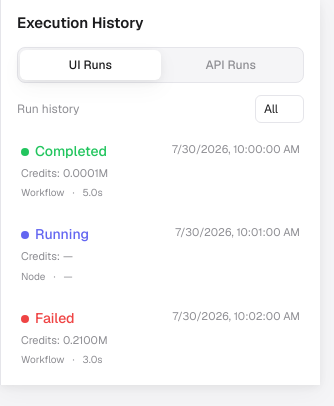
Scenario: HistorySidebar › API Runs tab shows empty state
The image size is (334, 406).
Expected: the list with test id "history-list" is shown, [9,130,312,377]
Click the button with test id "history-filter-api" at (231, 64), box [160,50,301,80]
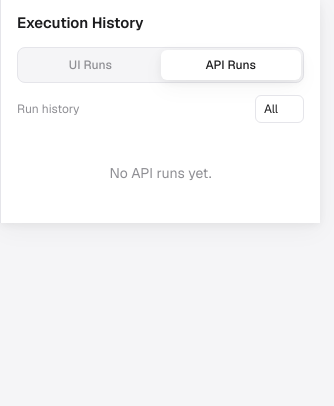
Expected: the text with test id "history-empty" reads "No API runs yet.", [110,164,212,182]
Expected: the list with test id "history-list" is gone
